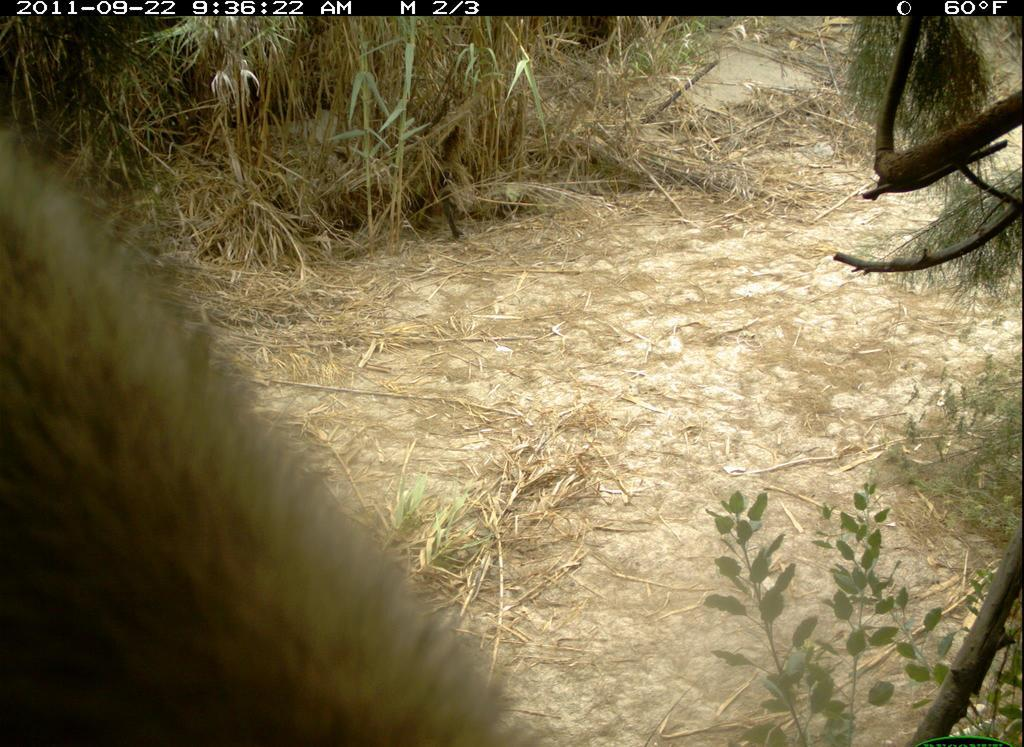coyote: (3, 116, 565, 747)
